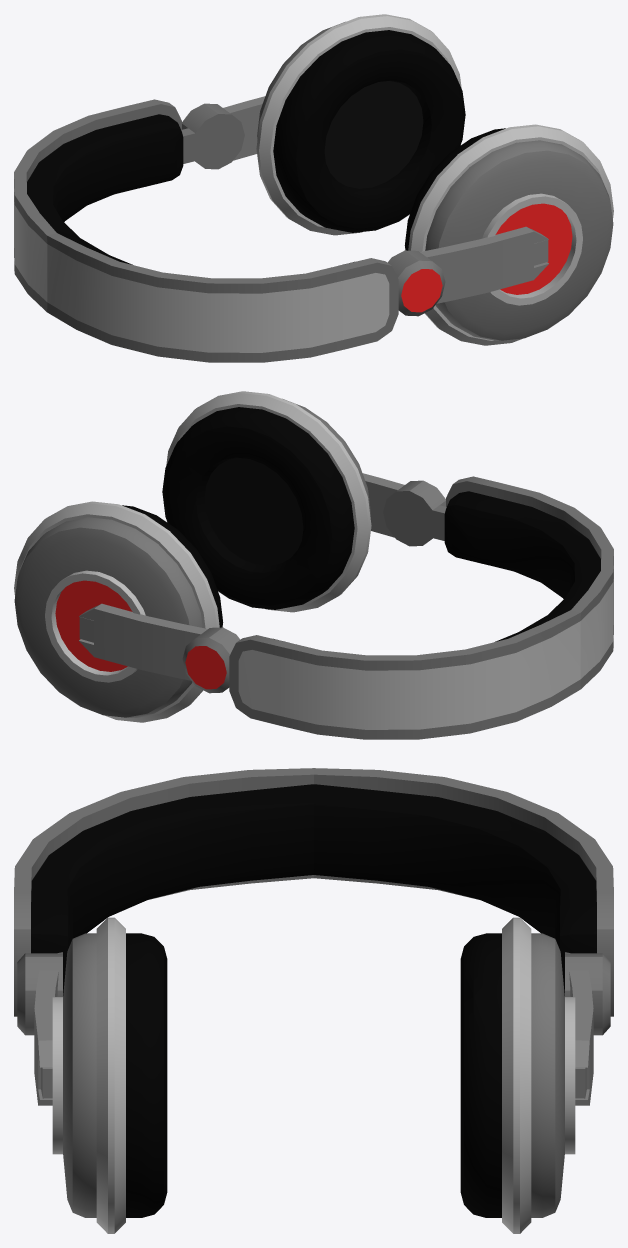
File: Headphones_03.glb
3 views of the same model, one above another, from view 1: azimuth 30°, elevation 25°; view 2: azimuth 150°, elevation 25°; view 3: azimuth 270°, elevation 25° (orthographic). The views are drawn at different scales.
Parts seen in each view (by area): view 1: Mesh_Headphones_04; view 2: Mesh_Headphones_04; view 3: Mesh_Headphones_04.
Boxes of the visible parts, x1=… form: Mesh_Headphones_04: x1=14, y1=14, x2=613, y2=362; Mesh_Headphones_04: x1=14, y1=391, x2=613, y2=739; Mesh_Headphones_04: x1=14, y1=768, x2=613, y2=1233.
Bounding box in the file's own units: 0.2007 × 0.0836 × 0.1581.
Materials: 1 (1 with a texture image).
